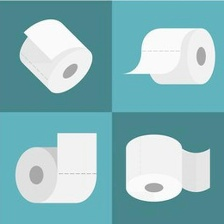tissue: (11, 128, 104, 209), (119, 130, 216, 207), (15, 14, 98, 99), (119, 23, 220, 90)
